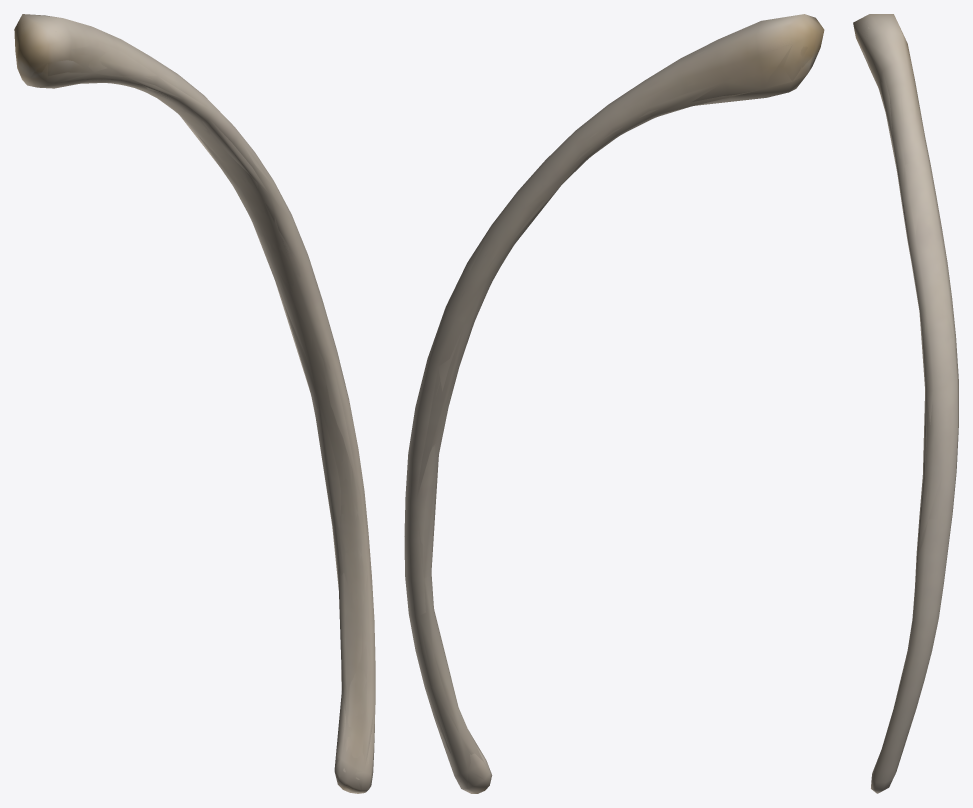
The model's file is Rib L14.fbx.
The picture shows the model from 3 angles, left to right: view 1: azimuth 30°, elevation 25°; view 2: azimuth 150°, elevation 25°; view 3: azimuth 270°, elevation 25°; orthographic projection. The views are drawn at different scales.
Visible parts, largest first — view 1: Rib L14, Rib L14 low, Rib L14 high; view 2: Rib L14, Rib L14 low, Rib L14 high; view 3: Rib L14, Rib L14 low, Rib L14 high.
Part boxes in pixels (x1,y1,x2,y2): Rib L14: (14,14,375,793); Rib L14 low: (17,14,375,793); Rib L14 high: (17,31,374,789); Rib L14: (404,14,824,793); Rib L14 low: (406,15,823,787); Rib L14 high: (406,34,814,785); Rib L14: (853,14,958,793); Rib L14 low: (854,18,958,791); Rib L14 high: (866,27,957,778).
Bounding box in the file's own units: 6.79 × 14.72 × 2.15.
Materials: 1 (1 with a texture image).
